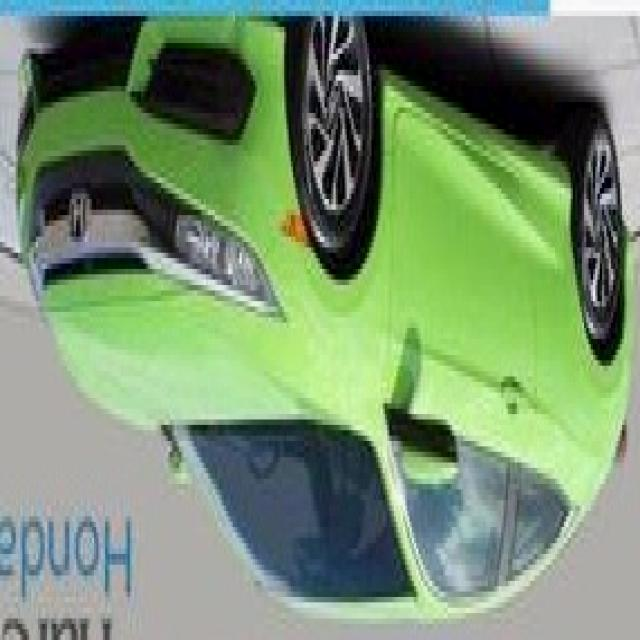green: (16, 10, 632, 621)
